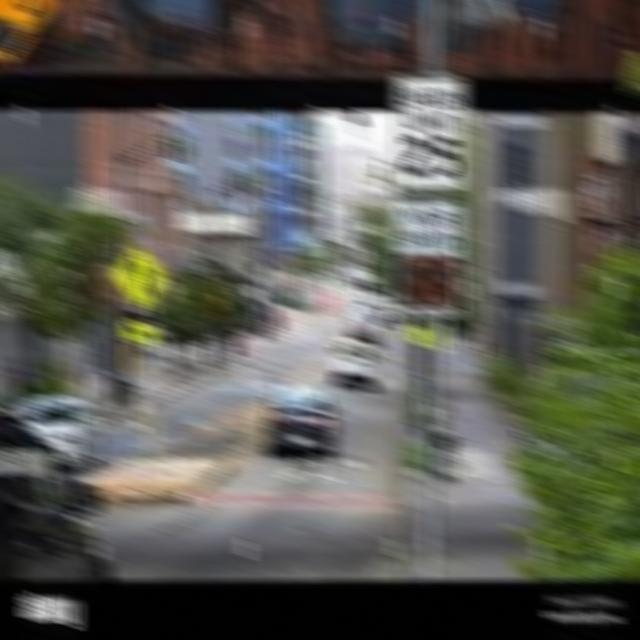speedLimit25: (391, 69, 466, 198)
